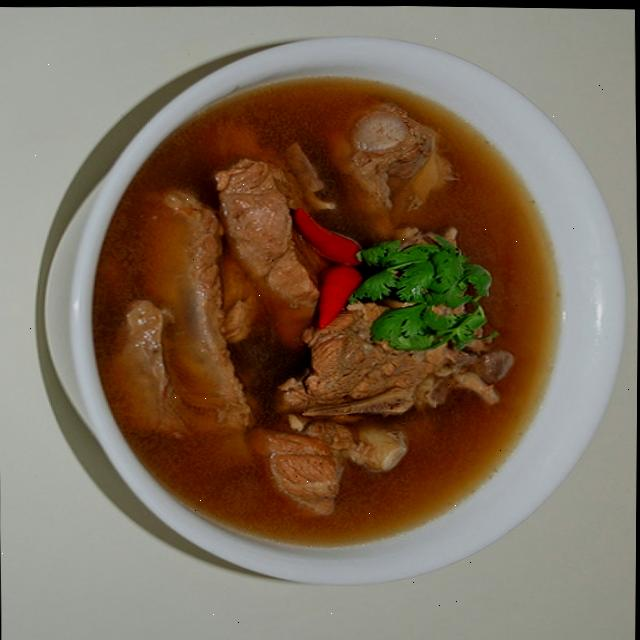汤锅炖物: (66, 43, 608, 583)
